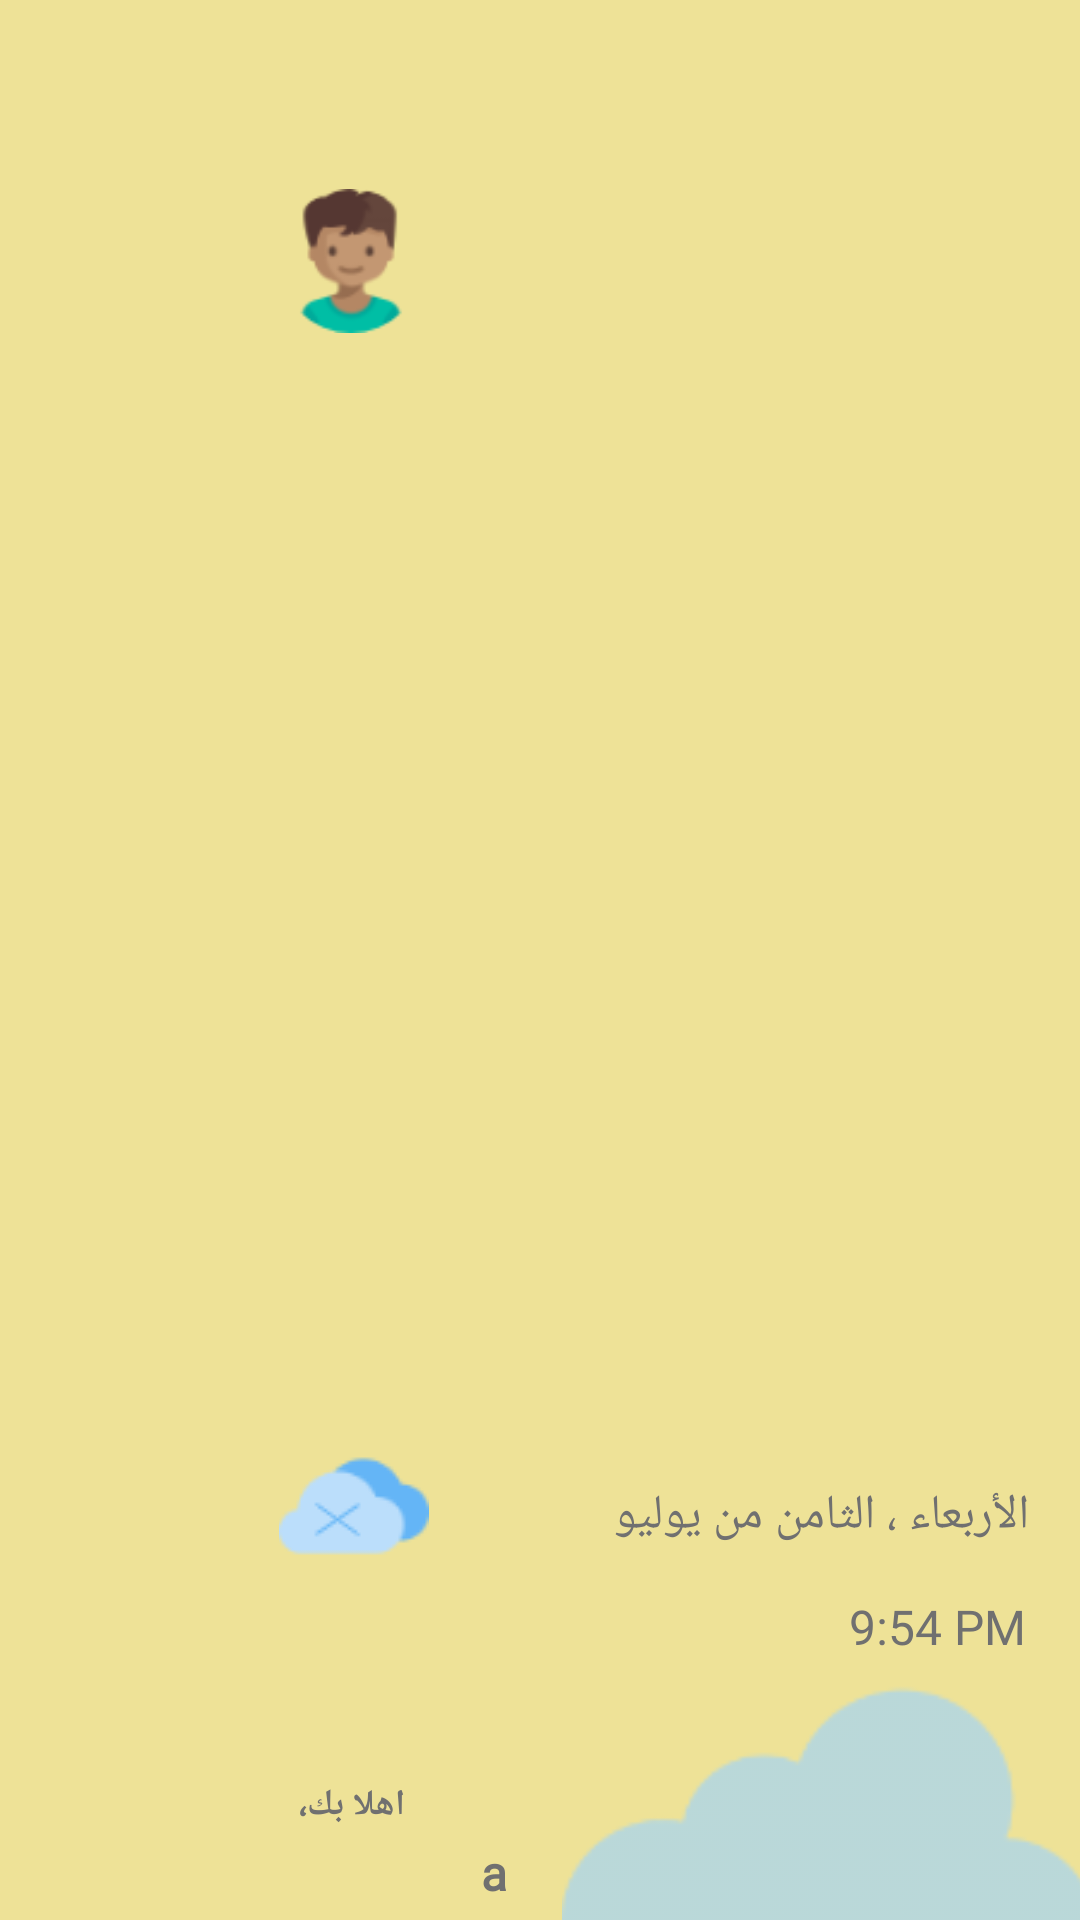

Icon click points for this 1080*1920 phone screenshot, format [x,y]:
guy: [351,261]
